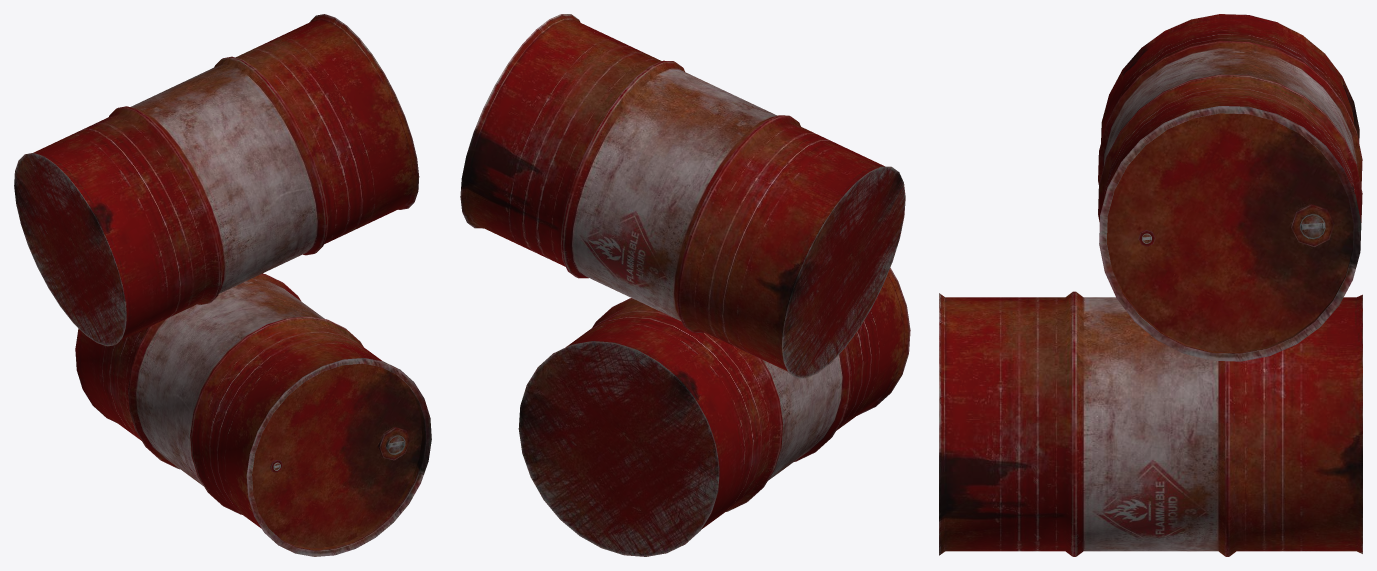
File: barrel.glb
The picture shows the model from 3 angles, left to right: view 1: azimuth 30°, elevation 25°; view 2: azimuth 150°, elevation 25°; view 3: azimuth 270°, elevation 25°; orthographic projection. The views are drawn at different scales.
Visible parts, largest first — view 1: barrel_oil_barrel_oil_0; view 2: barrel_oil_barrel_oil_0; view 3: barrel_oil_barrel_oil_0.
Boxes of the visible parts, left/top/right/bottom form: barrel_oil_barrel_oil_0: left=14, top=14, right=431, bottom=556; barrel_oil_barrel_oil_0: left=460, top=14, right=910, bottom=556; barrel_oil_barrel_oil_0: left=939, top=14, right=1362, bottom=556.
Size of the model in its own units: 0.8732 by 1.05 by 0.7882.
1 material, 1 textured.
